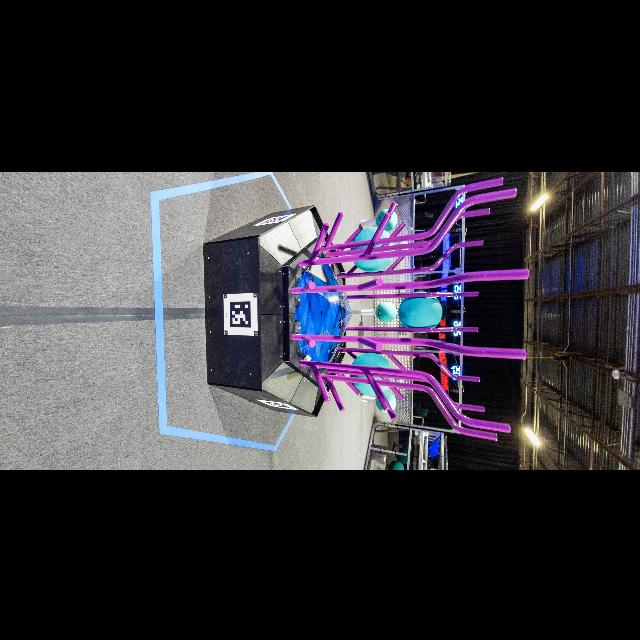ALGAE: (398, 290, 442, 332), (352, 226, 394, 270), (350, 352, 392, 394), (377, 207, 398, 229), (376, 391, 396, 412), (376, 300, 396, 320)
CORAL: (362, 394, 376, 402), (360, 218, 376, 225), (361, 308, 375, 314)
